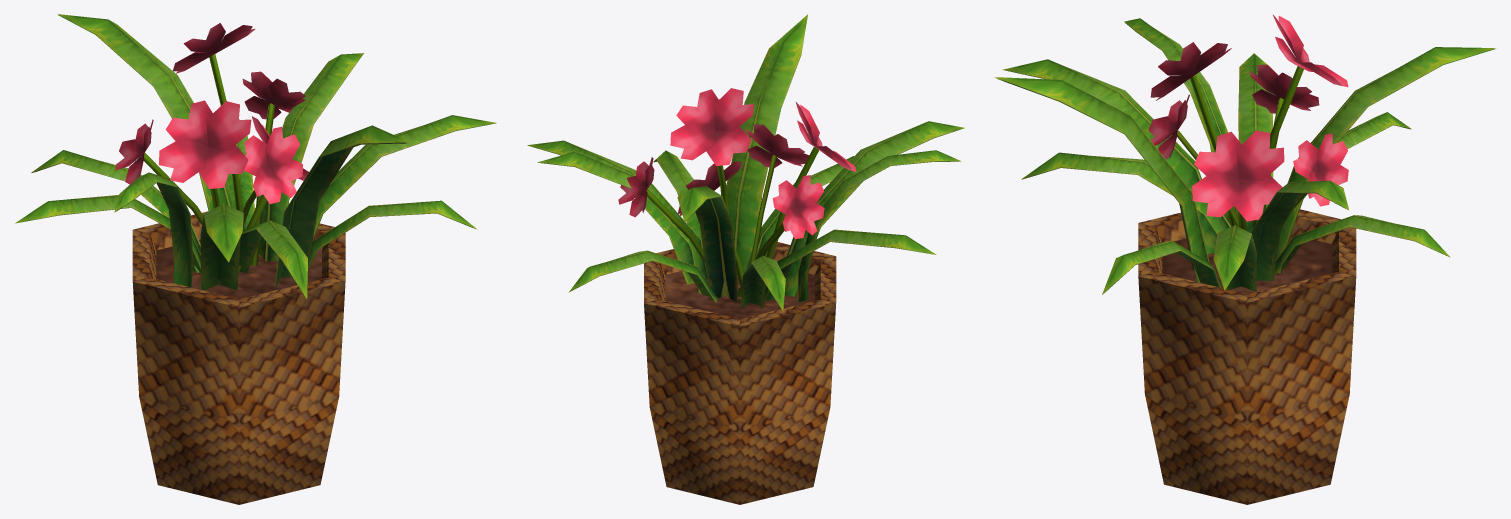
The model's file is ETC0610024.fbx.
3 renders of one model, left to right at view 1: azimuth 30°, elevation 25°; view 2: azimuth 150°, elevation 25°; view 3: azimuth 270°, elevation 25°, orthographic. The views are drawn at different scales.
Visible parts, largest first — view 1: smETC0610024; view 2: smETC0610024; view 3: smETC0610024.
Boxes of the visible parts, x1=… form: smETC0610024: x1=15, y1=14, x2=496, y2=504; smETC0610024: x1=527, y1=14, x2=964, y2=504; smETC0610024: x1=994, y1=15, x2=1496, y2=504.
Size of the model in its own units: 121 by 107 by 110.
Materials: 1 (1 with a texture image).
